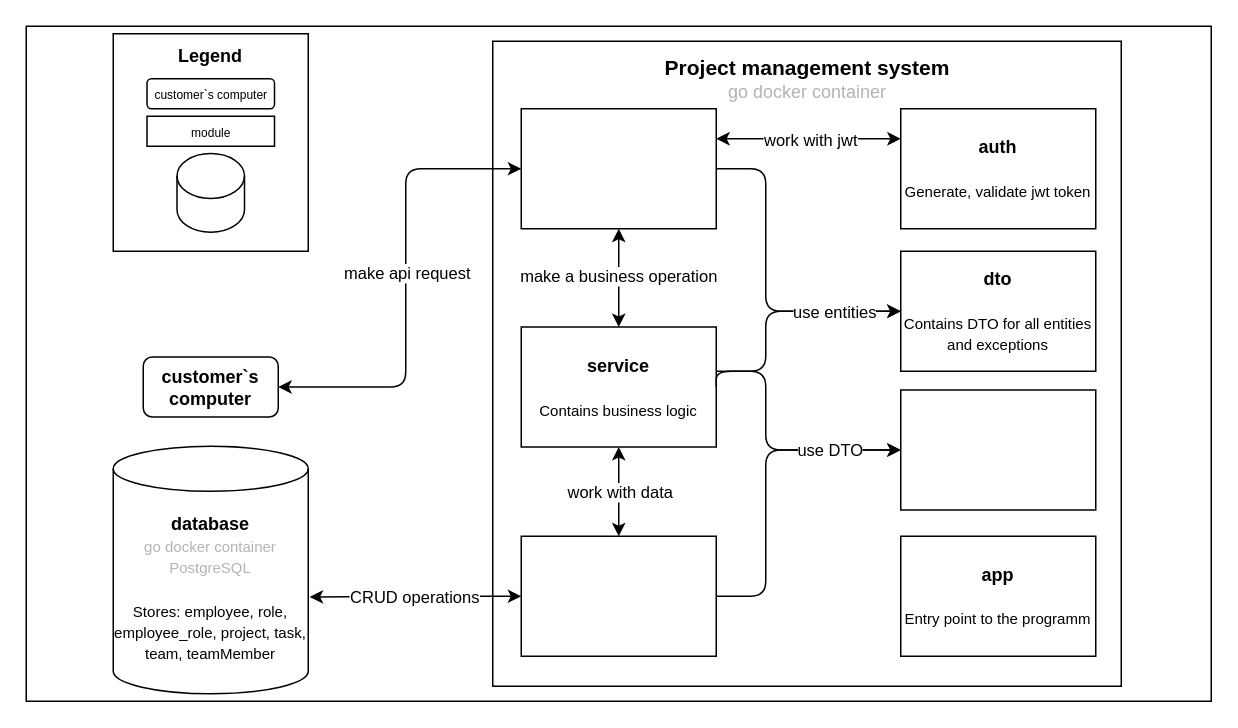
The diagram is 1238 pixels wide and 728 high, and some of its shapes have lost their labels. The centre of each missing label's shape, as x and y in pixels:
controller Handling JSON/HTTP user requests: point (618, 168)
database: point (210, 192)
model Contains entities: point (997, 449)
repository Interaction with the database: point (618, 595)
